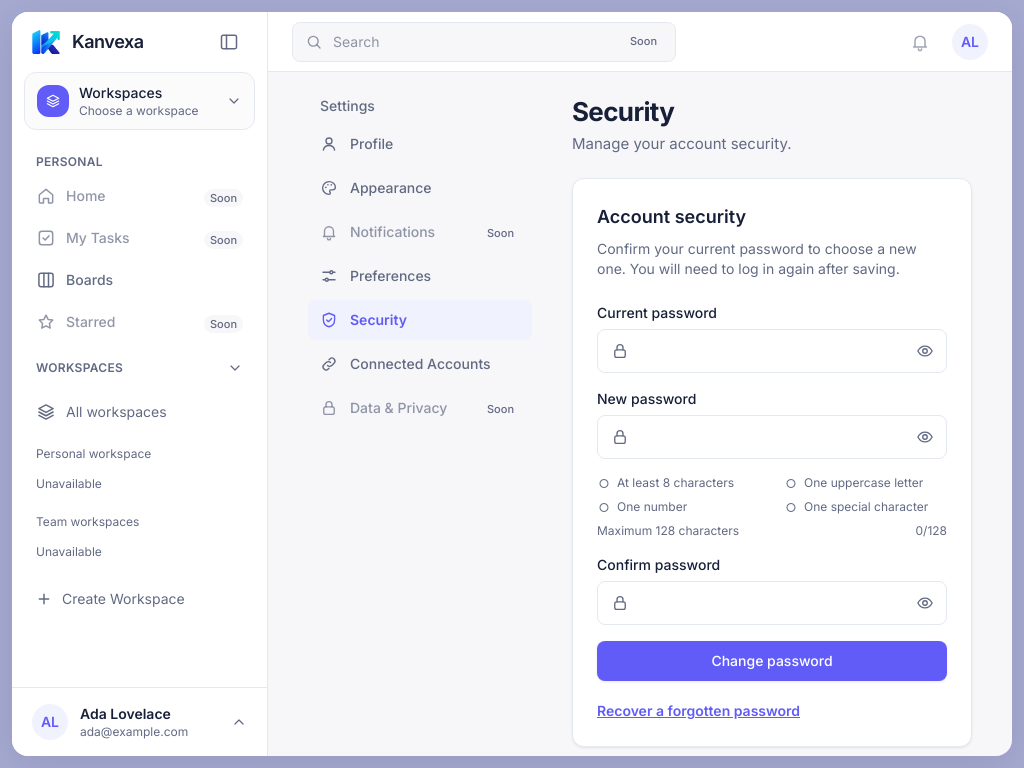
AccountSecurity › changes password and ends the current session only after API success
Type "OldPass123!" into the password field labelled "Current password" at (772, 351), box [597, 329, 947, 373]
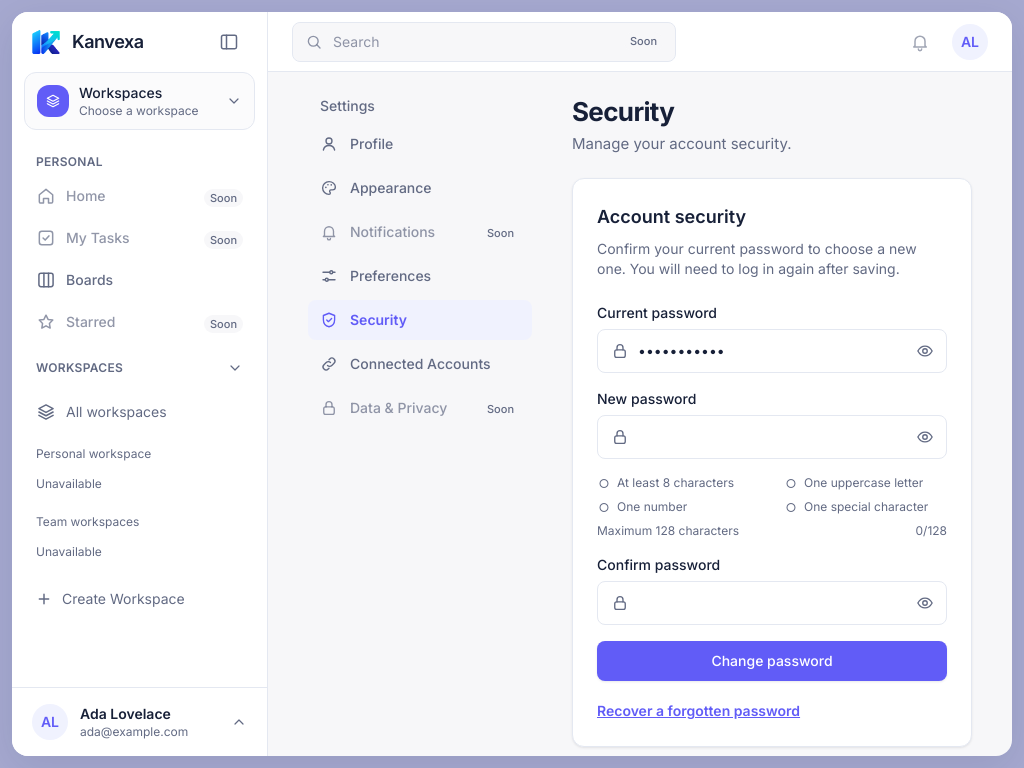
Type "NewPass123!" into the password field labelled "New password" at (772, 437), box [597, 415, 947, 459]
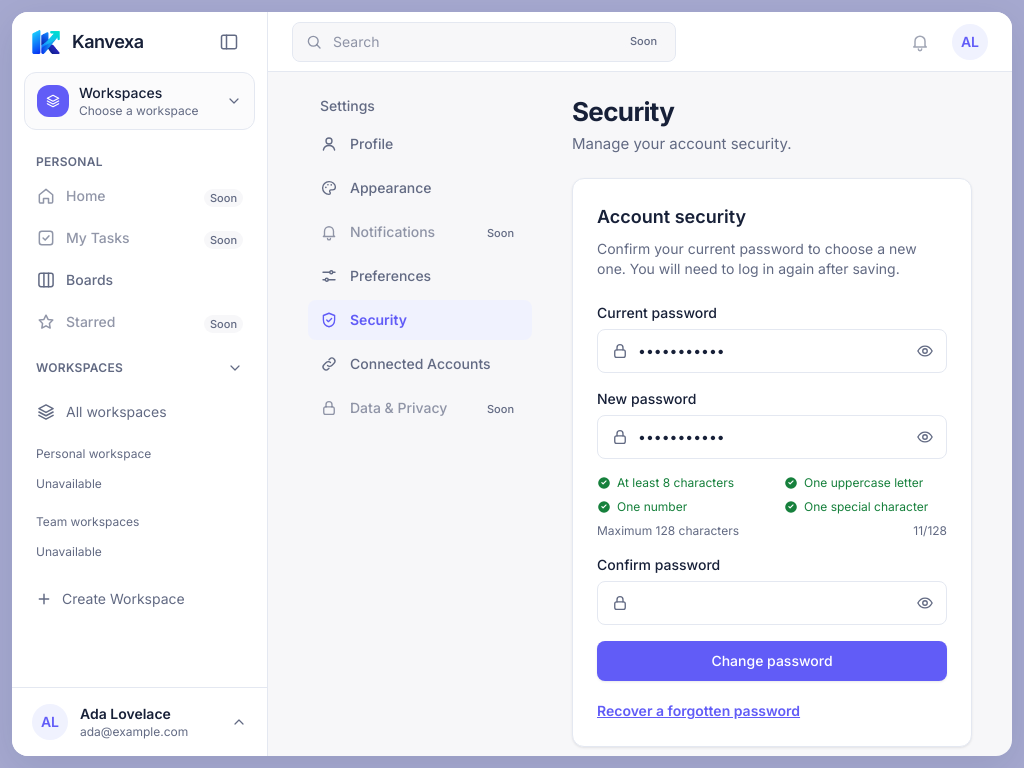
Type "NewPass123!" into the password field labelled "Confirm password" at (772, 603), box [597, 581, 947, 625]
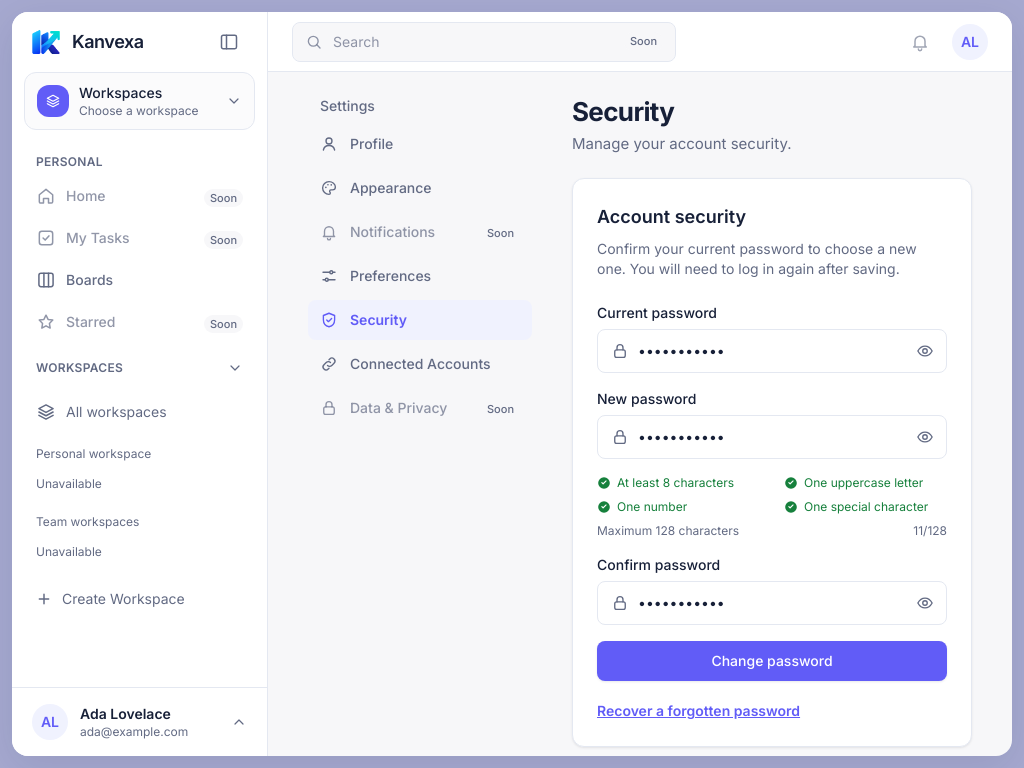
Click the button "Change password" at (772, 661), box [597, 641, 947, 681]
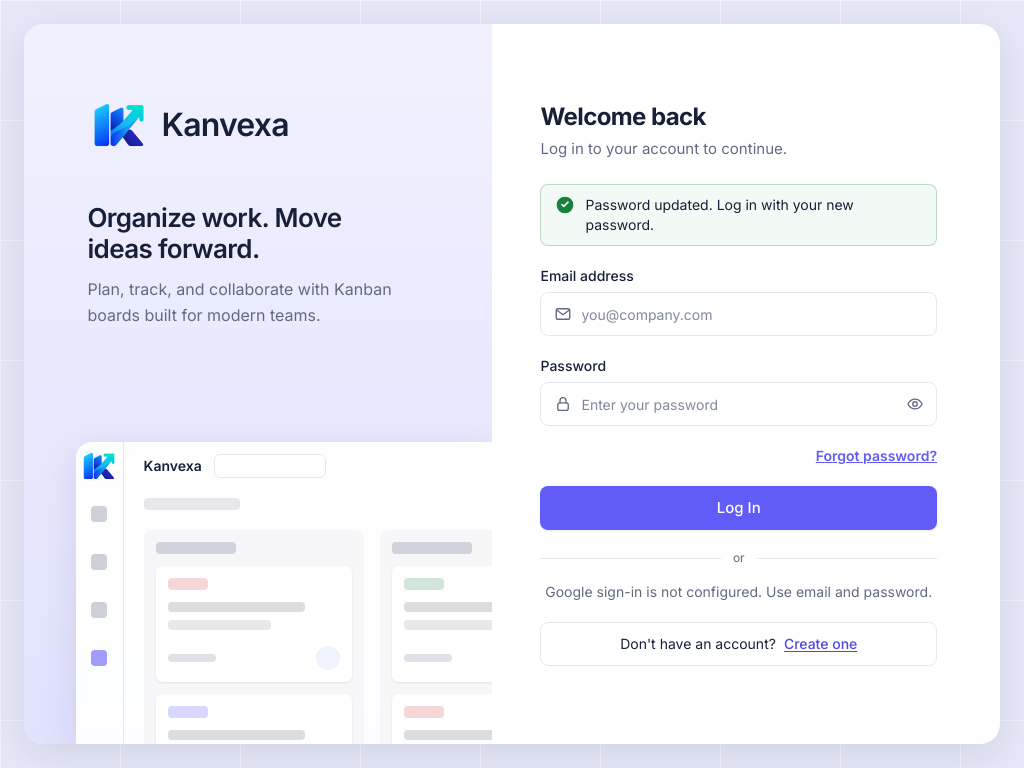
Expected: the heading "Welcome back" is shown, [540, 102, 706, 131]
Expected: the text "Password updated. Log in with your new password." is shown, [586, 196, 854, 233]
